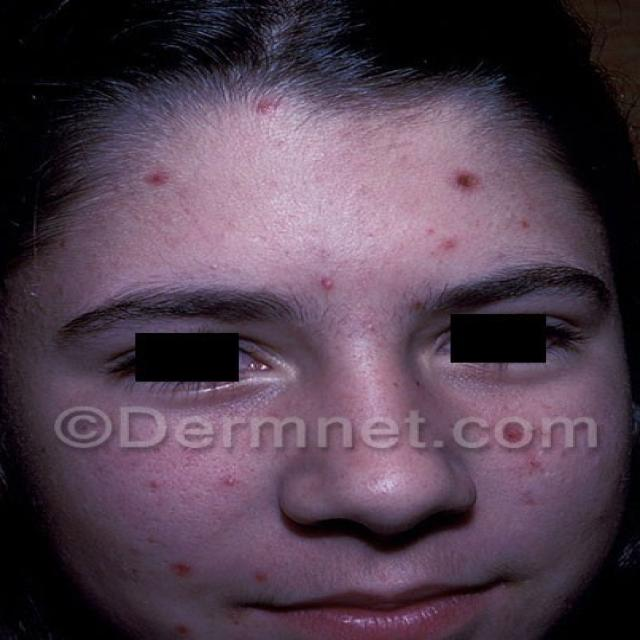Acne: (230, 87, 347, 164), (499, 412, 579, 521), (121, 158, 217, 219), (139, 529, 220, 594), (440, 157, 516, 211), (244, 549, 322, 594), (199, 459, 273, 500), (431, 229, 489, 274)
